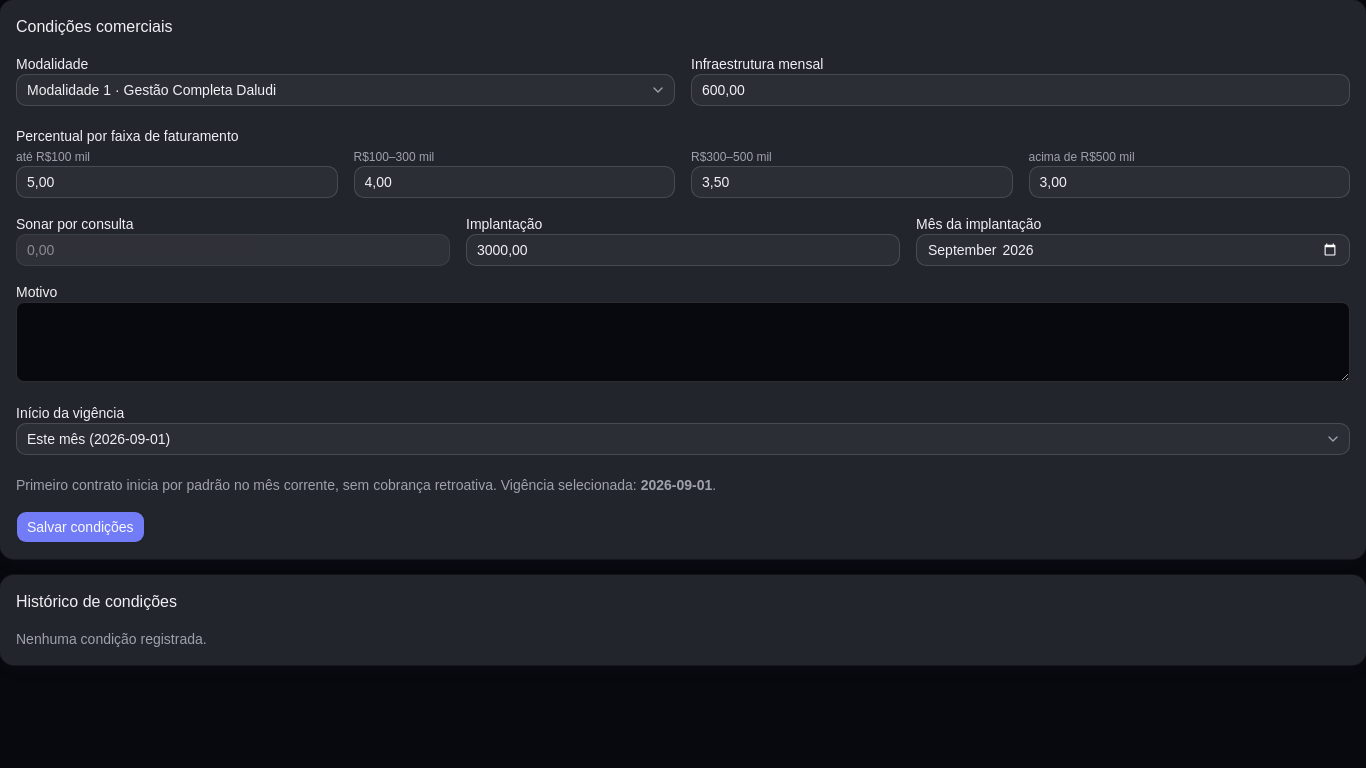
Test: CommercialTermsForm › rejeita vigência obsoleta, atualiza estado para novo mês e alerta se a virada do mês em Fortaleza ocorrer antes do submit
Check: the dropdown named "Início da vigência" shows "2026-09-01", box [16, 423, 1350, 455]
Check: the field labelled "Mês da implantação" holds "2026-09", box [916, 234, 1350, 266]
Type "contrato no limite do mes" into the text box labelled "Motivo".
click(683, 342); type("contrato no limite do mes")  # box [16, 302, 1350, 382]
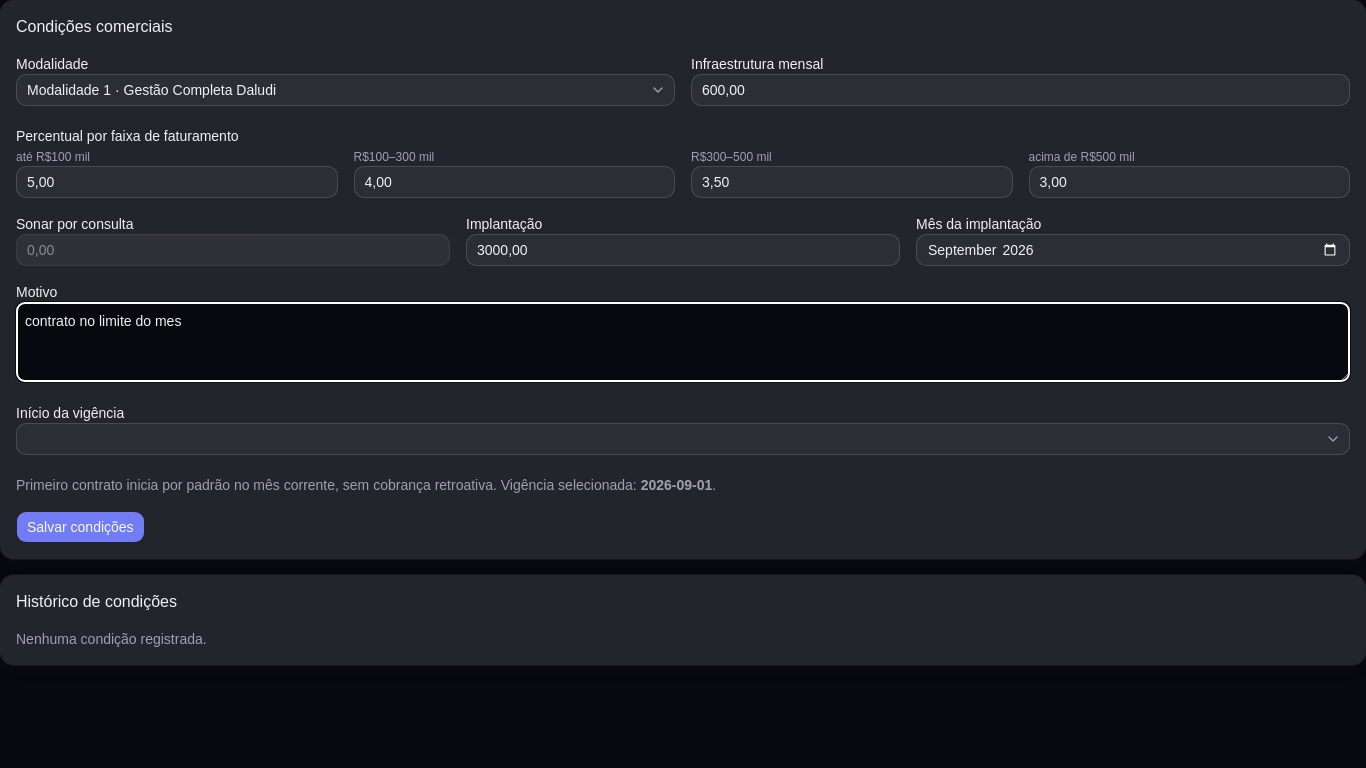
Click the button "Salvar condições".
click(80, 527)  # box [16, 511, 145, 543]
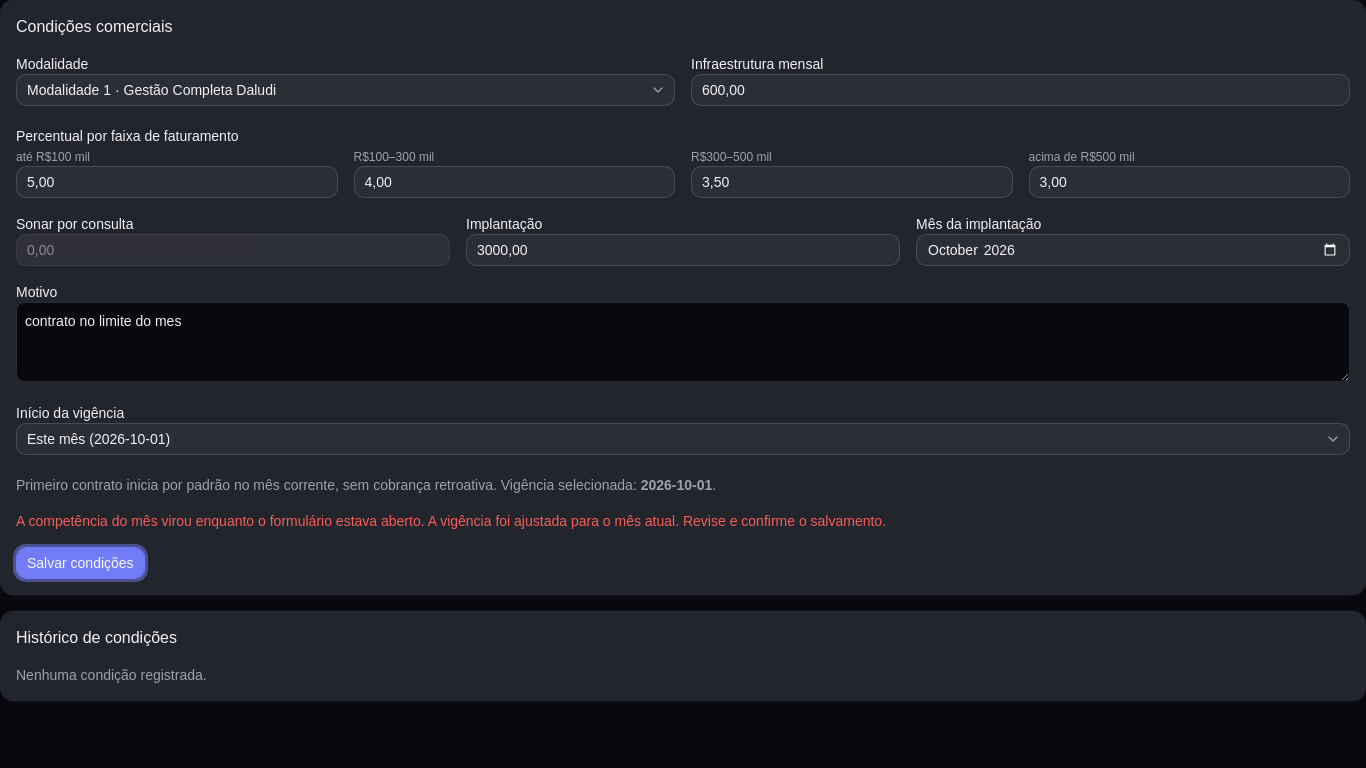
Check: the dropdown named "Início da vigência" shows "2026-10-01", box [16, 423, 1350, 455]
Check: the field labelled "Mês da implantação" holds "2026-10", box [916, 234, 1350, 266]
Check: the text "A competência do mês virou" is shown, box [16, 513, 886, 529]
